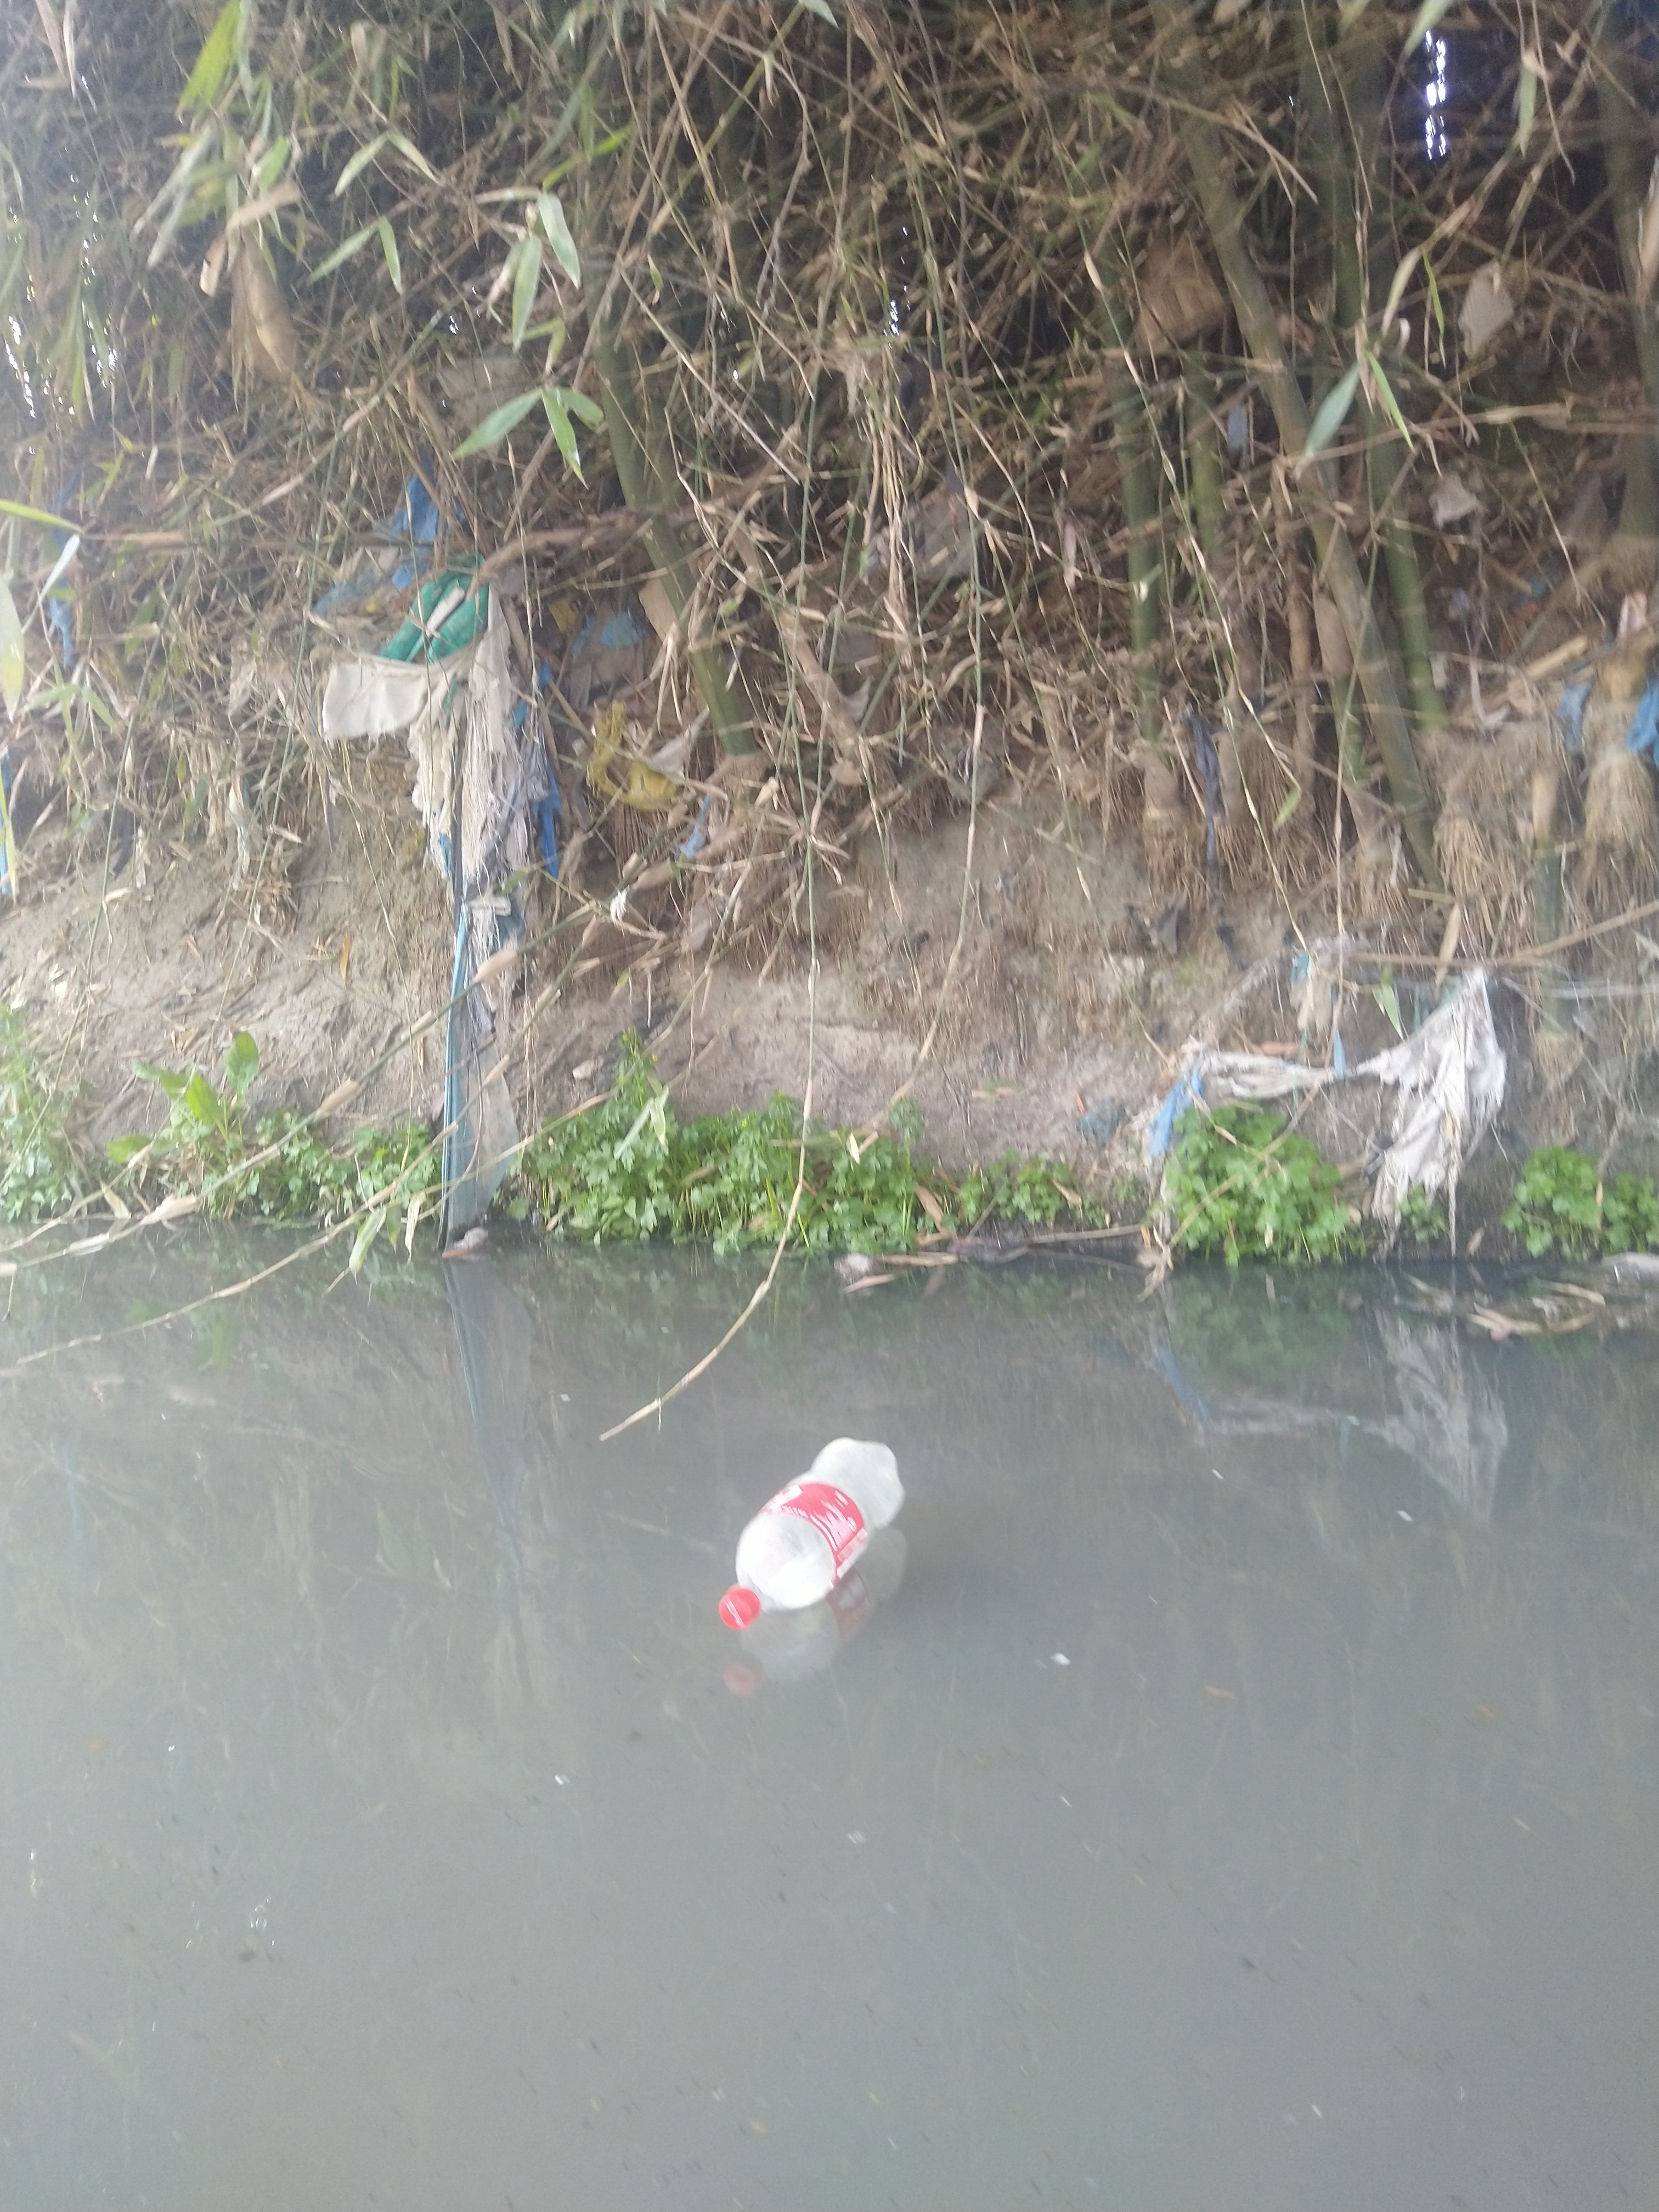Plastic Bottle: (721, 1437, 903, 1629)
